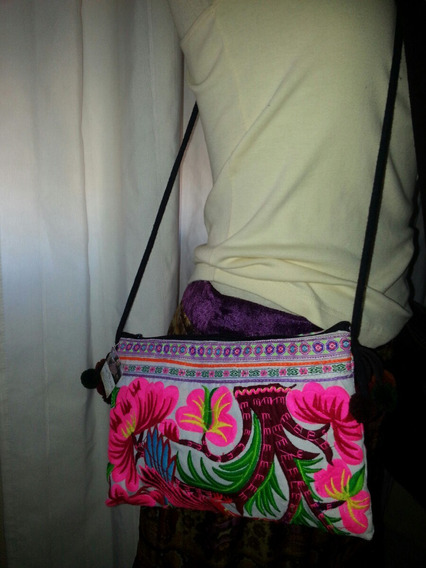cartera: (104, 315, 377, 545)
